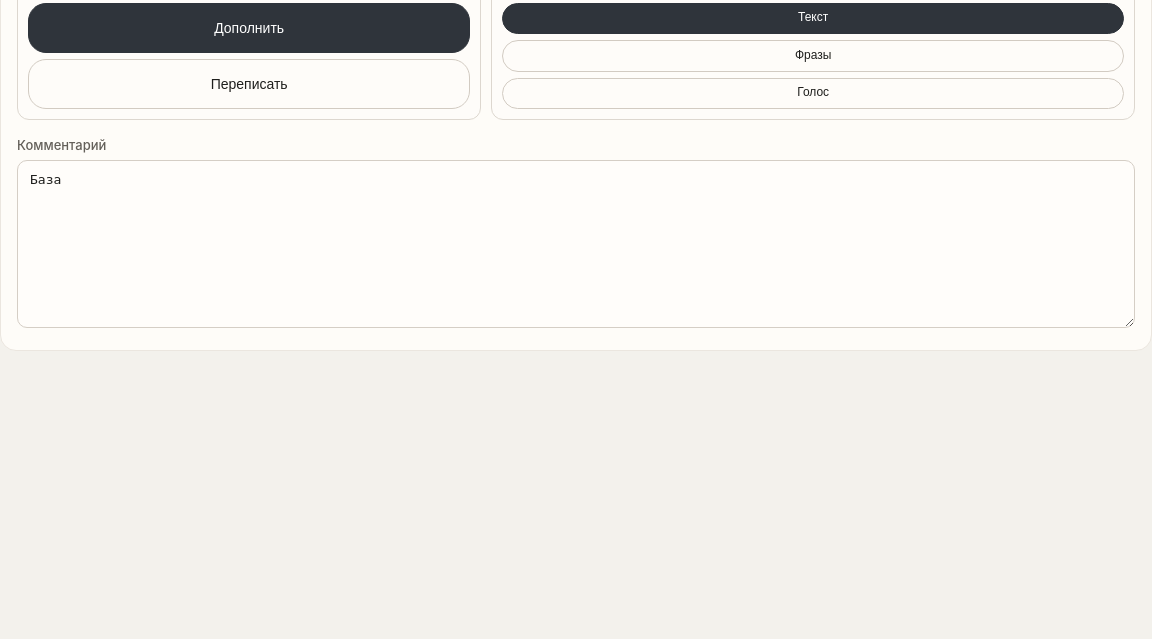
it: CommentComposer › replaces the old comment with the first rewrite phrase
The width and height of the screenshot is (1152, 639).
Click the button "Переписать".
click(249, 84)  # box x1=28 y1=59 x2=470 y2=109
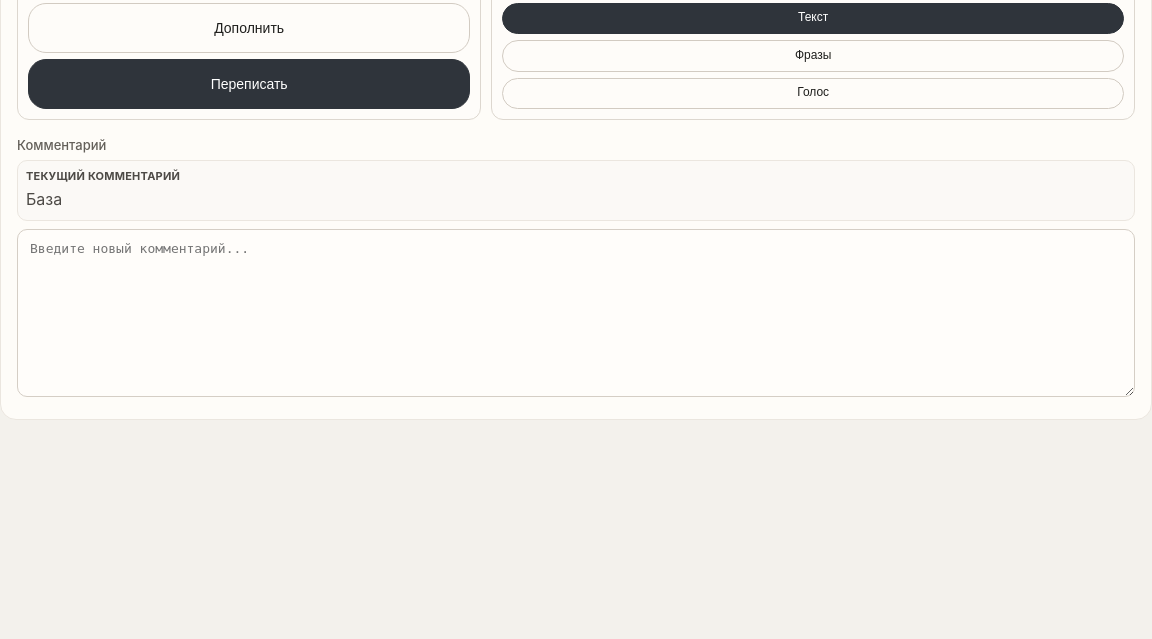
Click the button "Фразы".
click(813, 56)  # box x1=502 y1=40 x2=1124 y2=72
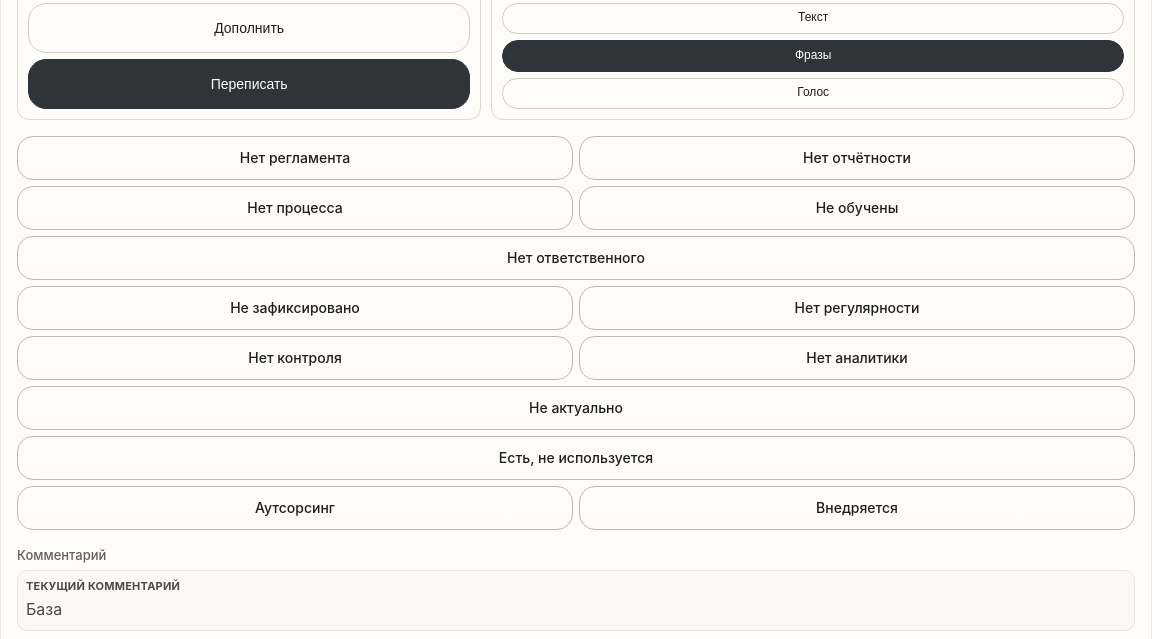
Click the button "Нет контроля".
click(295, 358)  # box x1=17 y1=336 x2=573 y2=380
(page scrolled)
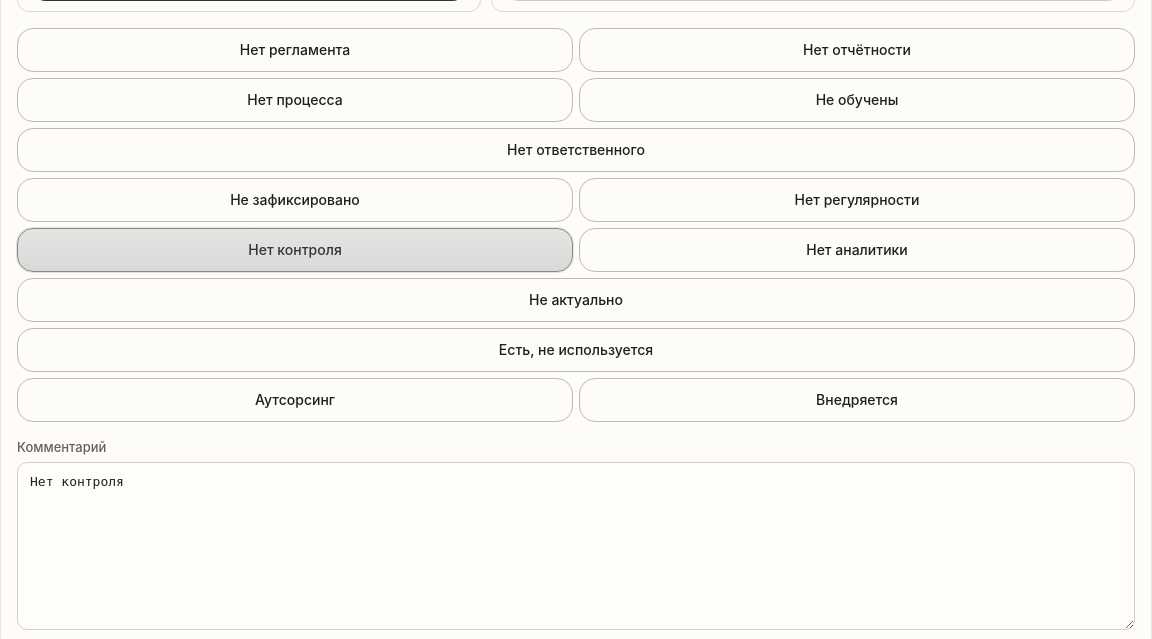
Result: the text box labelled "Комментарий" holds "Нет контроля" at x1=17 y1=462 x2=1135 y2=630
